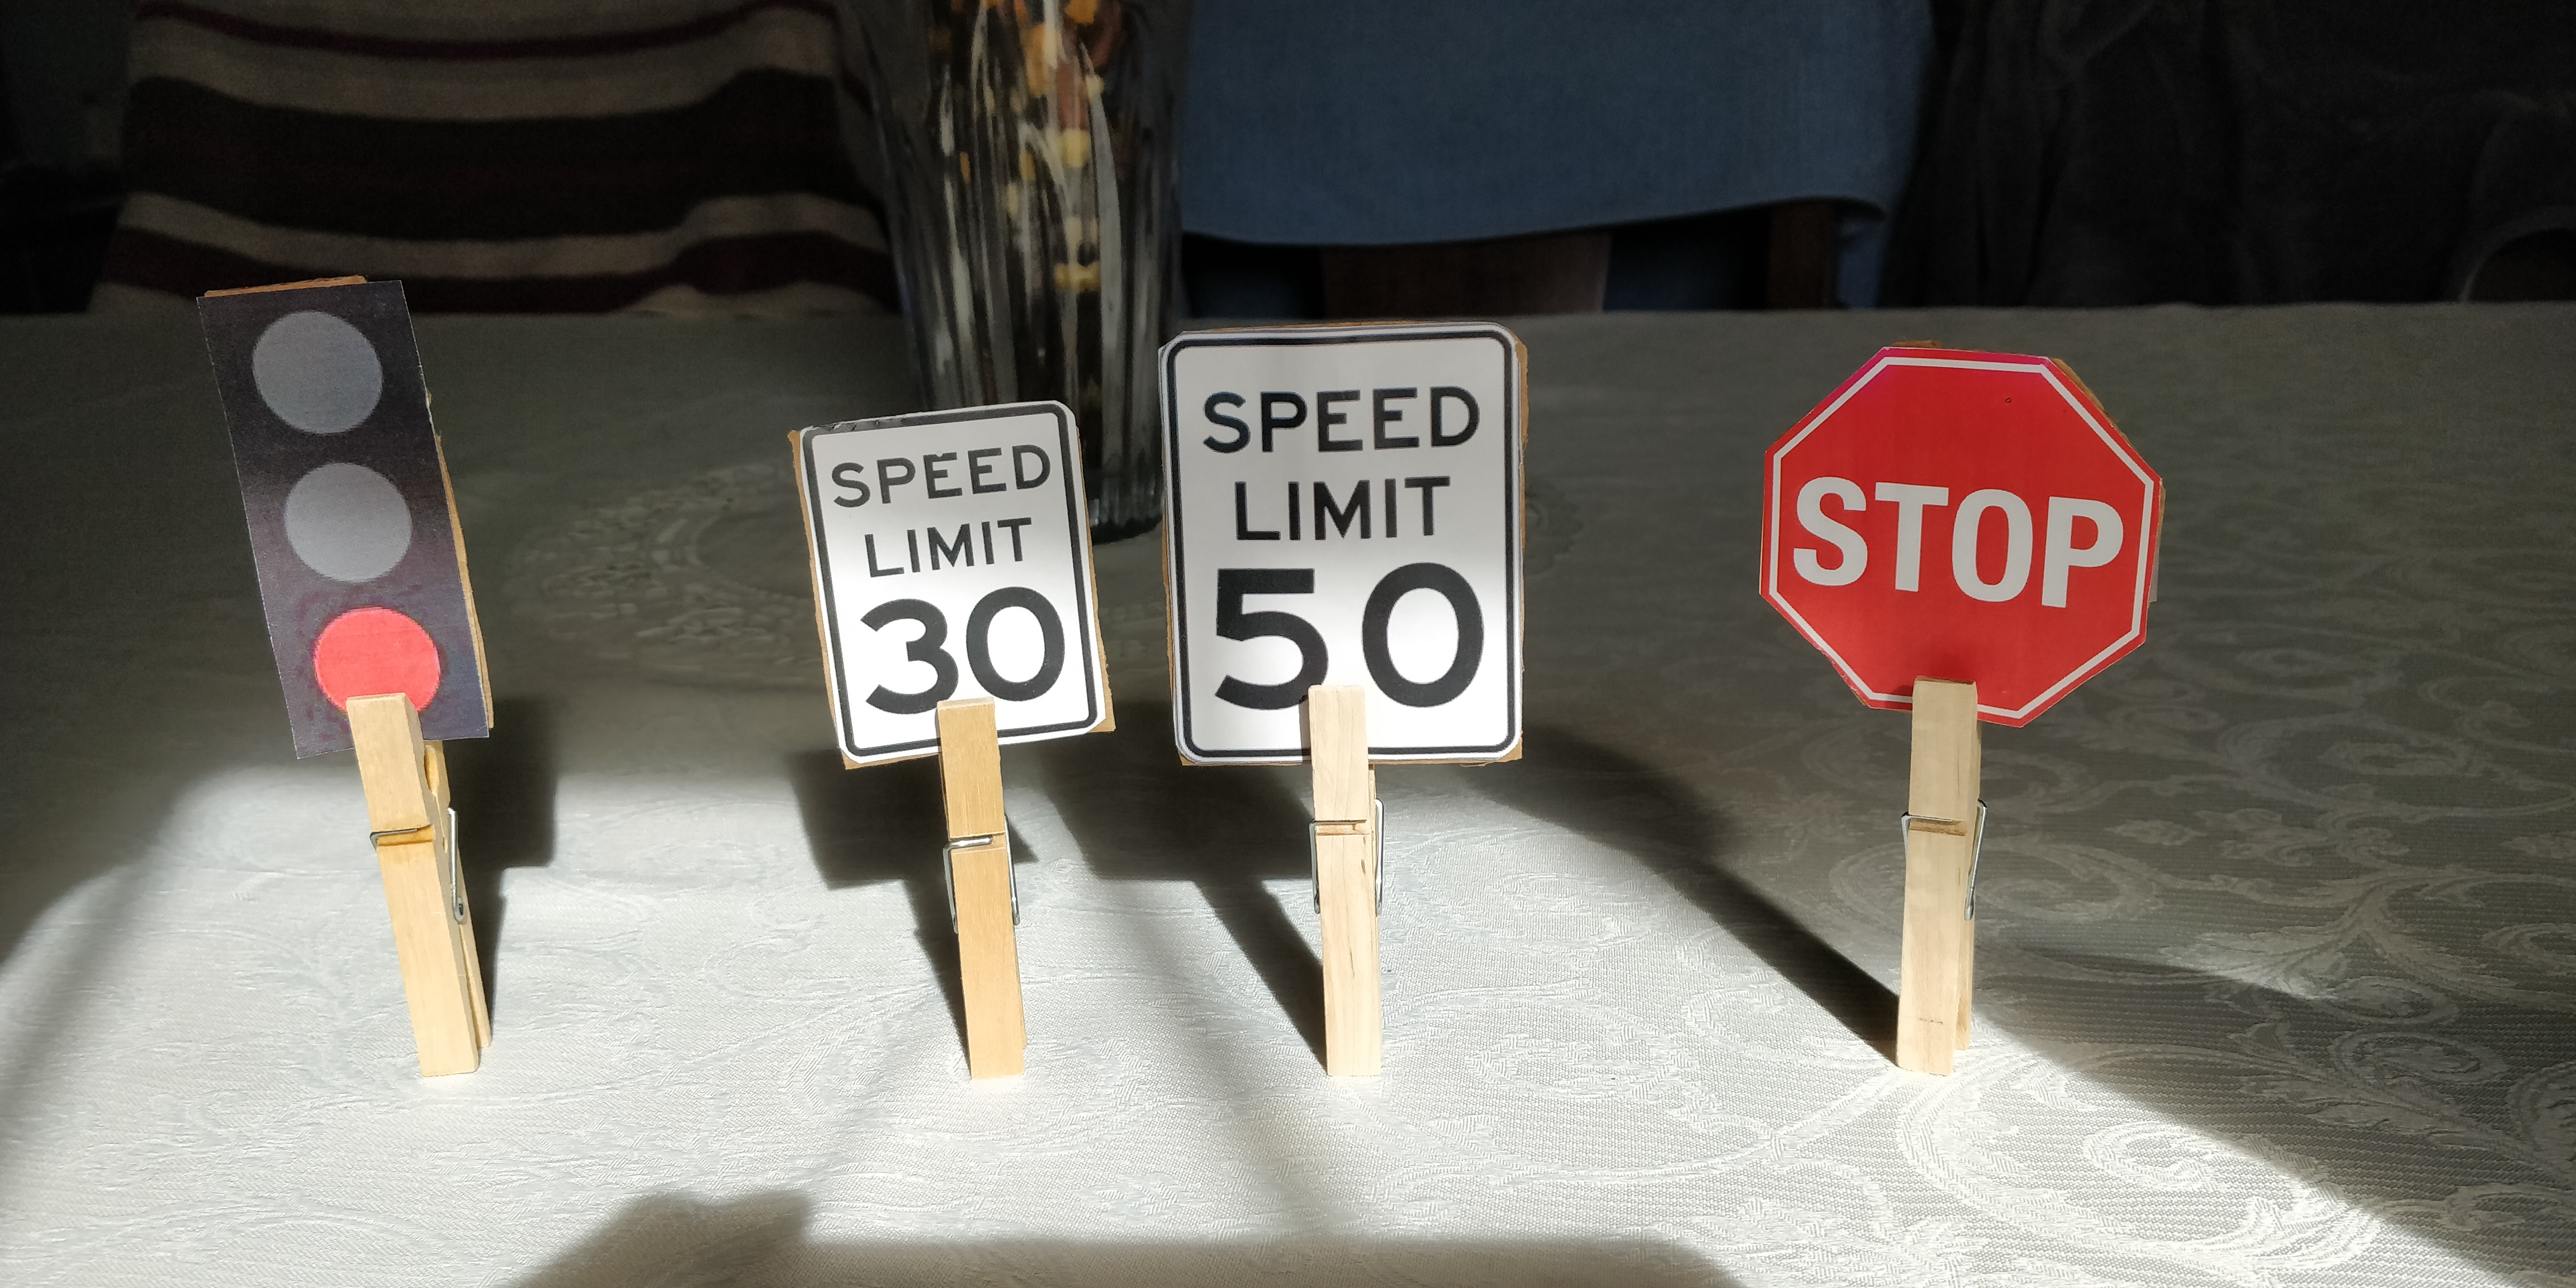Speed Limit 30: (790, 399, 1114, 769)
Speed Limit 50: (1158, 327, 1528, 767)
Stop Sign: (1761, 352, 2165, 726)
red light: (197, 276, 490, 757)
